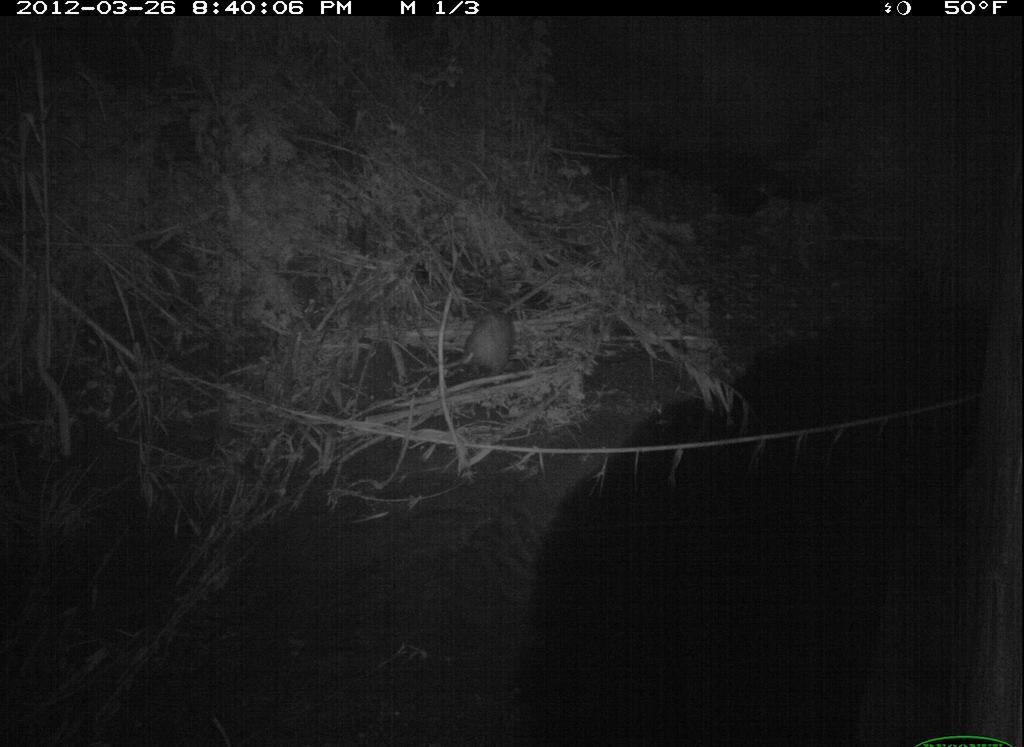opossum: (414, 298, 522, 389)
